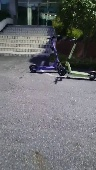beam: (29, 34, 64, 73)
gcooter: (58, 36, 96, 81)
